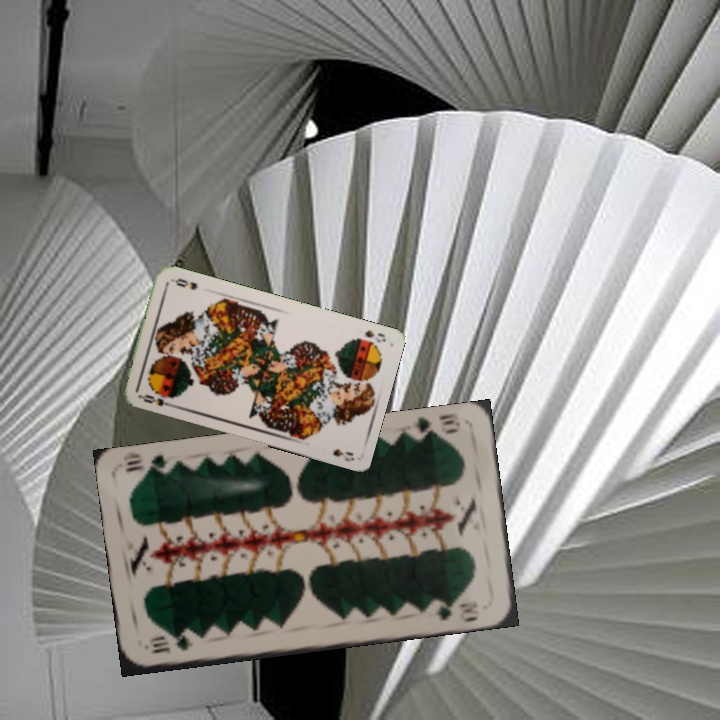G10: (408, 410, 463, 443), (147, 632, 195, 656)
SO: (135, 390, 175, 409), (361, 326, 388, 346)
